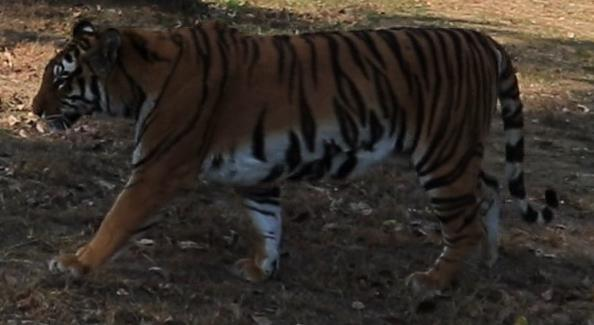tiger: (33, 20, 536, 288)
